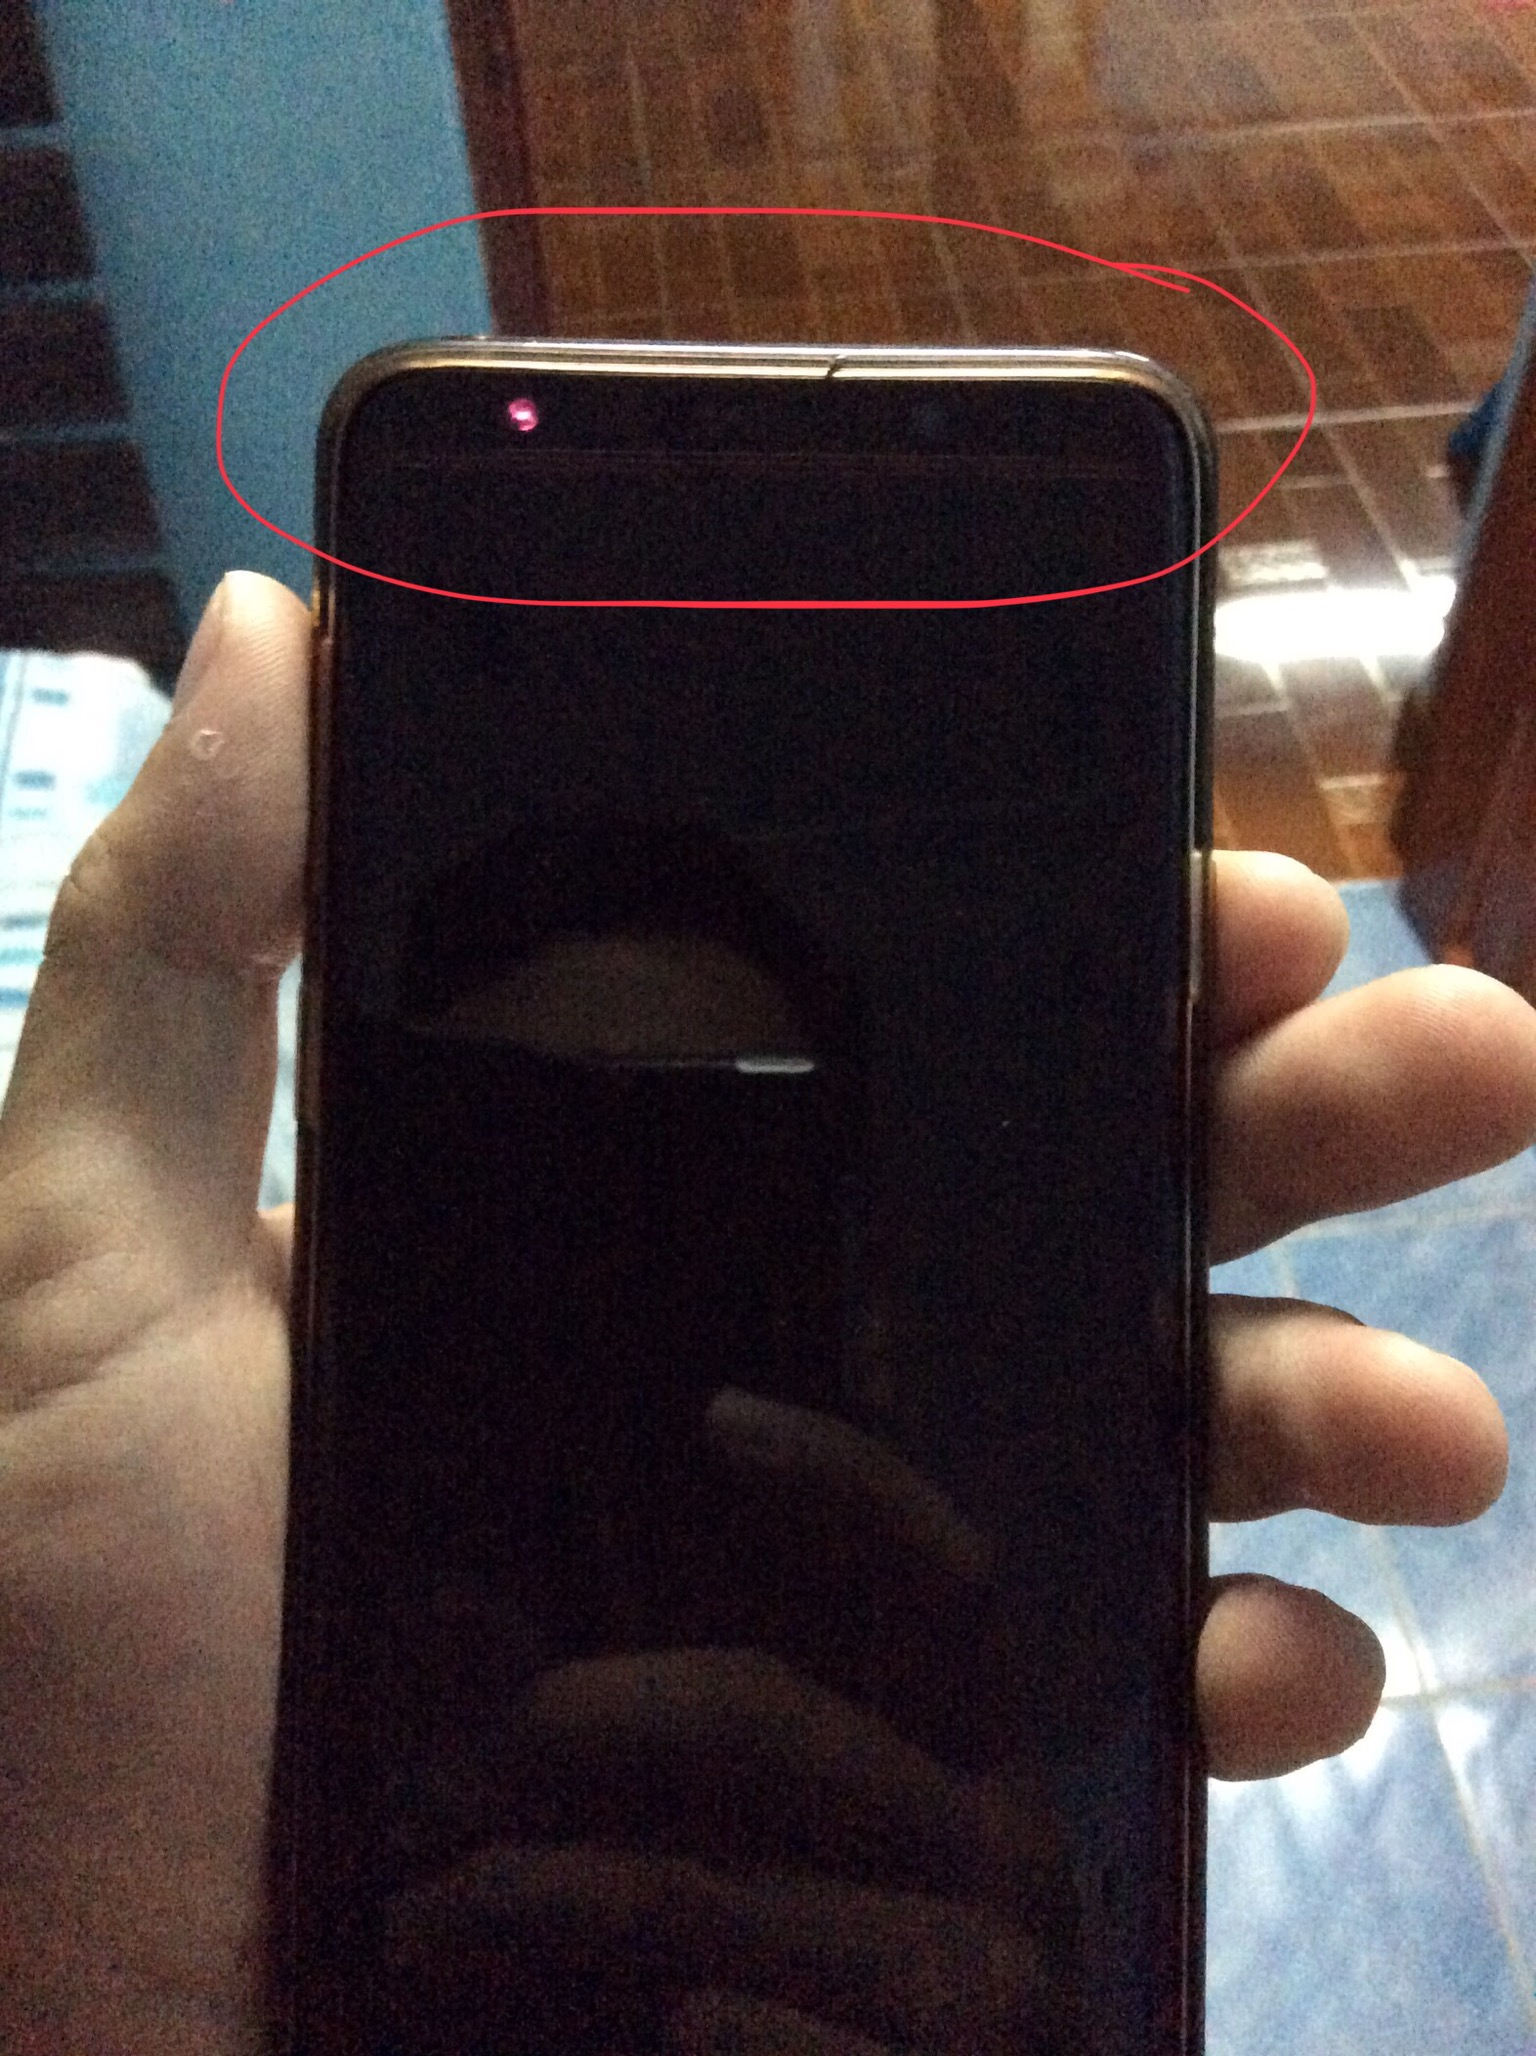Phone: (258, 324, 1226, 2056)
